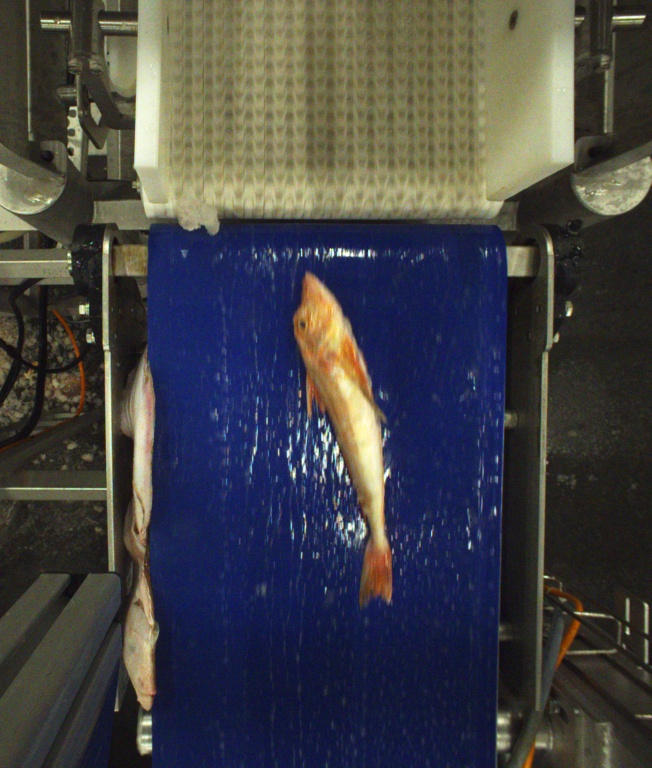GUU: (291, 271, 395, 610)
